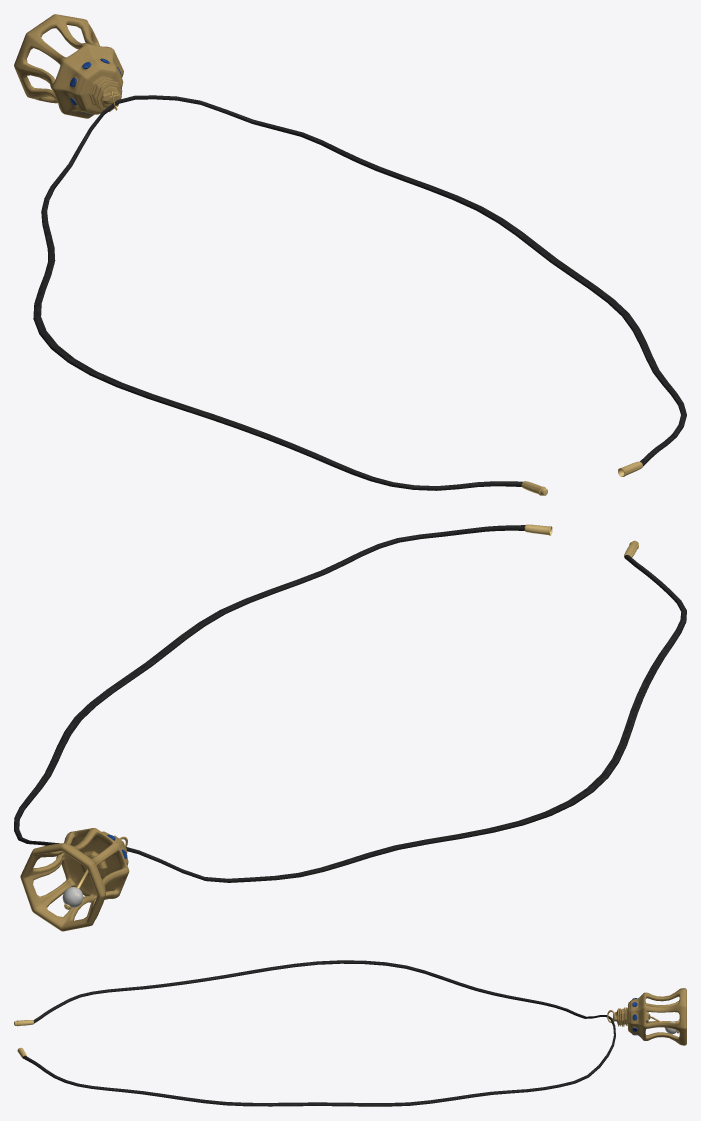
Rendered from Robbers_T3ANI210_NecklaceType1_Abdilla.fbx.
The picture shows the model from 3 angles, top to bottom: view 1: azimuth 30°, elevation 25°; view 2: azimuth 150°, elevation 25°; view 3: azimuth 270°, elevation 25°; orthographic projection. The views are drawn at different scales.
Parts seen in each view (by area): view 1: NecklaceLoop, PendantCap; view 2: NecklaceLoop, PendantCap; view 3: NecklaceLoop, PendantCap.
Part boxes in pixels (x1,y1,x2,y2): NecklaceLoop: (33,95,686,495); PendantCap: (14,14,123,118); NecklaceLoop: (14,524,686,882); PendantCap: (20,828,129,931); NecklaceLoop: (14,960,615,1106); PendantCap: (613,988,686,1045).
Size of the model in its own units: 10.99 by 1.96 by 21.56.
Materials: 7 (7 with a texture image).
